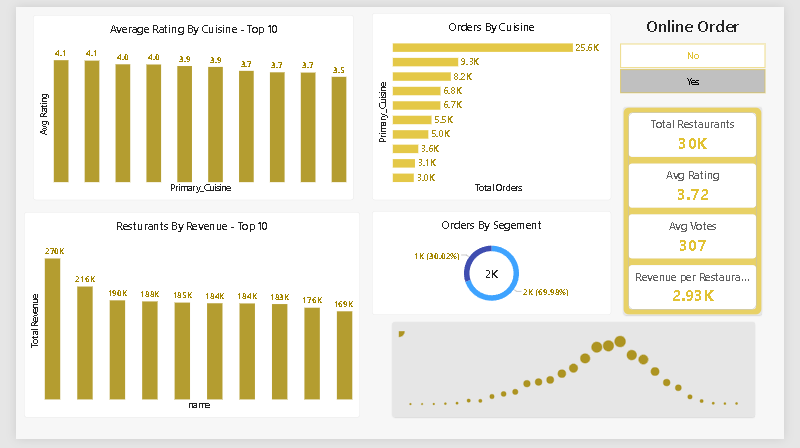

The page's visual inventory and layout, read from the dashboard file:
{"tool":"powerbi","page":{"name":"Resturants Performance","canvas":[1920,1080],"ordinal":2},"visuals":[{"type":"scatterChart","fields":{"Size":["Orders.Total Orders"],"X":["Restaurants.Rate"],"Y":["Orders.Total Revenue"]},"box":[940,787.5,907.5,237.5],"z":0},{"type":"barChart","title":"Orders By Cuisine ","fields":{"Category":["Restaurants.Primary_Cuisine"],"Y":["Orders.Total Orders"]},"box":[890,15,597.5,467.5],"z":1000},{"type":"columnChart","title":"Resturants By Revenue - Top 10","fields":{"Category":["Restaurants.name"],"Y":["Orders.Total Revenue"]},"box":[19.8,513.6,839.8,513.6],"z":2000},{"type":"columnChart","title":"Average Rating By Cuisine - Top 10","fields":{"Category":["Restaurants.Primary_Cuisine"],"Y":["Restaurants.Avg Rating"]},"box":[41.9,19.8,802.3,462.9],"z":3000},{"type":"cardVisual","fields":{"Data":["Customers.Total Restaurants","Restaurants.Avg Rating","Restaurants.Avg Votes","Restaurants.Revenue per Restaurant"]},"box":[1518.3,248.9,347.5,520.1],"z":4000},{"type":"donutChart","title":"Orders By Segement","fields":{"Category":["Restaurants.Price_Segment"],"Y":["Orders.Total Orders"]},"box":[890,510,597.5,260],"z":5000},{"type":"slicer","title":"Online Order","fields":{"Values":["Restaurants.Online_Order"]},"box":[1491.1,19.7,401.7,197.2],"z":6000}]}

Visuals, with their boxes in screenshot pixels (x1, y1, x2, y2), scaled from the page's 1920x1080 canvas onto the 800x448 screenshot:
scatterChart - Orders.Total Orders x Restaurants.Rate: 392,327,770,425
"Orders By Cuisine " barChart: 371,6,620,200
"Resturants By Revenue - Top 10" columnChart: 8,213,358,426
"Average Rating By Cuisine - Top 10" columnChart: 17,8,352,200
cardVisual - Customers.Total Restaurants x Restaurants.Avg Rating: 633,103,777,319
"Orders By Segement" donutChart: 371,212,620,319
"Online Order" slicer: 621,8,789,90
